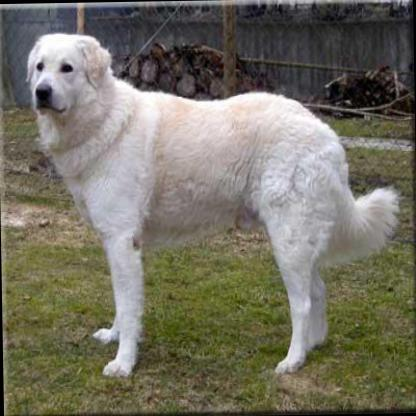kuvasz: (24, 24, 400, 381)
